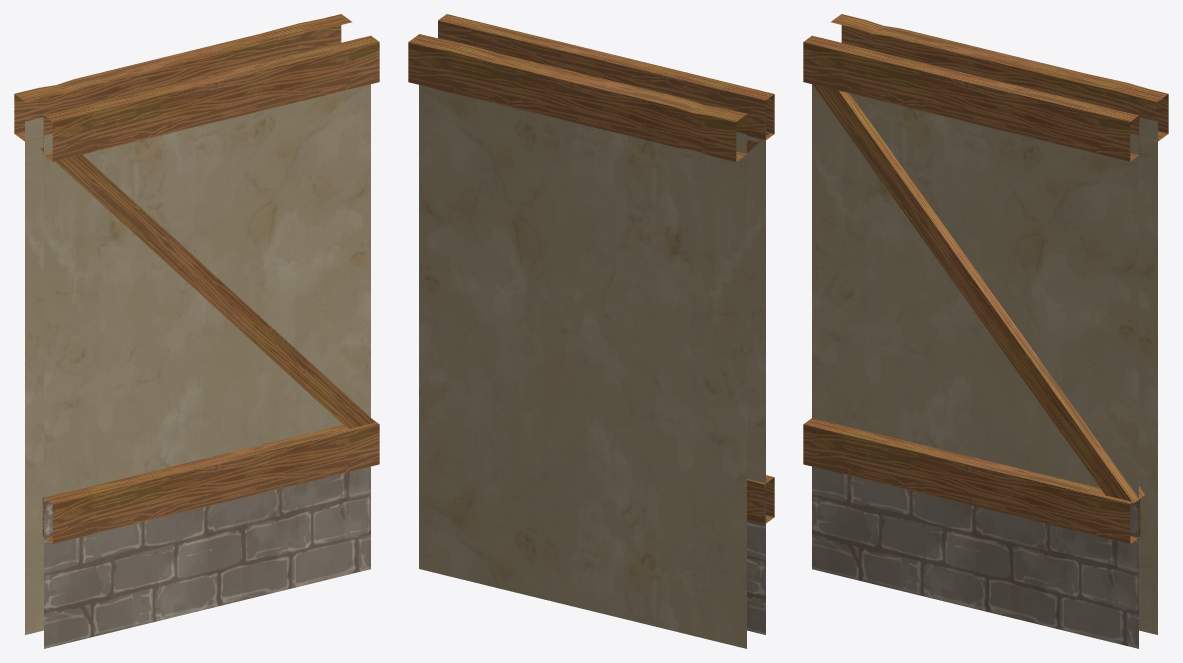
File: Wall_Plaster_Straight_L.gltf
The picture shows the model from 3 angles, left to right: view 1: azimuth 30°, elevation 25°; view 2: azimuth 150°, elevation 25°; view 3: azimuth 330°, elevation 25°; orthographic projection.
Visible parts, largest first — view 1: Wall_Plaster_Straight_L; view 2: Wall_Plaster_Straight_L; view 3: Wall_Plaster_Straight_L.
Boxes of the visible parts, bbox=[...] form: Wall_Plaster_Straight_L: bbox=[14, 14, 379, 648]; Wall_Plaster_Straight_L: bbox=[408, 14, 774, 648]; Wall_Plaster_Straight_L: bbox=[803, 14, 1168, 648].
Bounding box in the file's own units: 2 × 3.12 × 0.4065.
3 materials, 3 textured.
